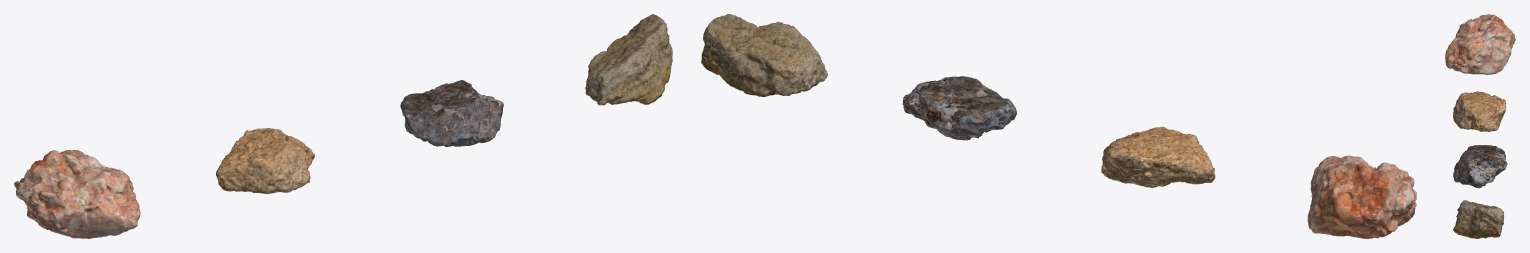
Rendered from namaqualand-rocks-01.glb.
3 views of the same model, side by side, from view 1: azimuth 30°, elevation 25°; view 2: azimuth 150°, elevation 25°; view 3: azimuth 270°, elevation 25° (orthographic). The views are drawn at different scales.
Visible parts, largest first — view 1: namaqualand_rocks_01; view 2: namaqualand_rocks_01; view 3: namaqualand_rocks_01.
Part boxes in pixels (<box>): namaqualand_rocks_01: <box>14,14,672,238</box>; namaqualand_rocks_01: <box>701,14,1416,238</box>; namaqualand_rocks_01: <box>1445,14,1515,238</box>.
Bounding box in the file's own units: 1.45 × 0.1524 × 0.2169.
1 material, 1 textured.
